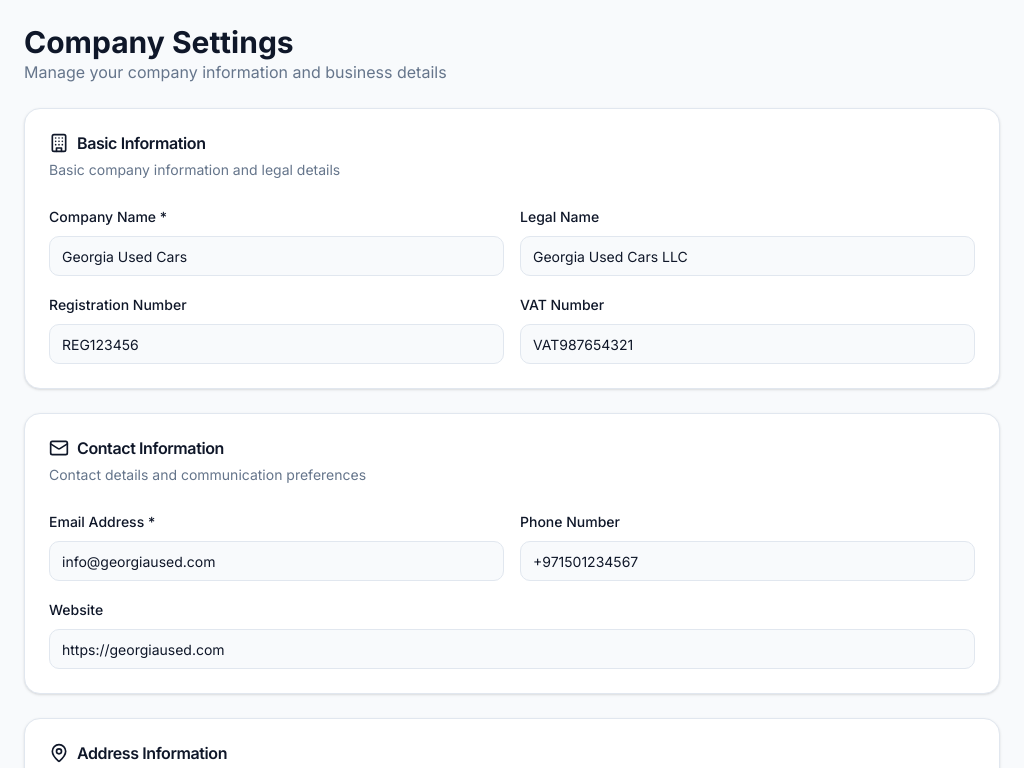
Test: Company Settings Page › should validate required fields
Clear the field showing "Georgia Used Cars" at (276, 256), box [49,236,504,276]
(page scrolled)
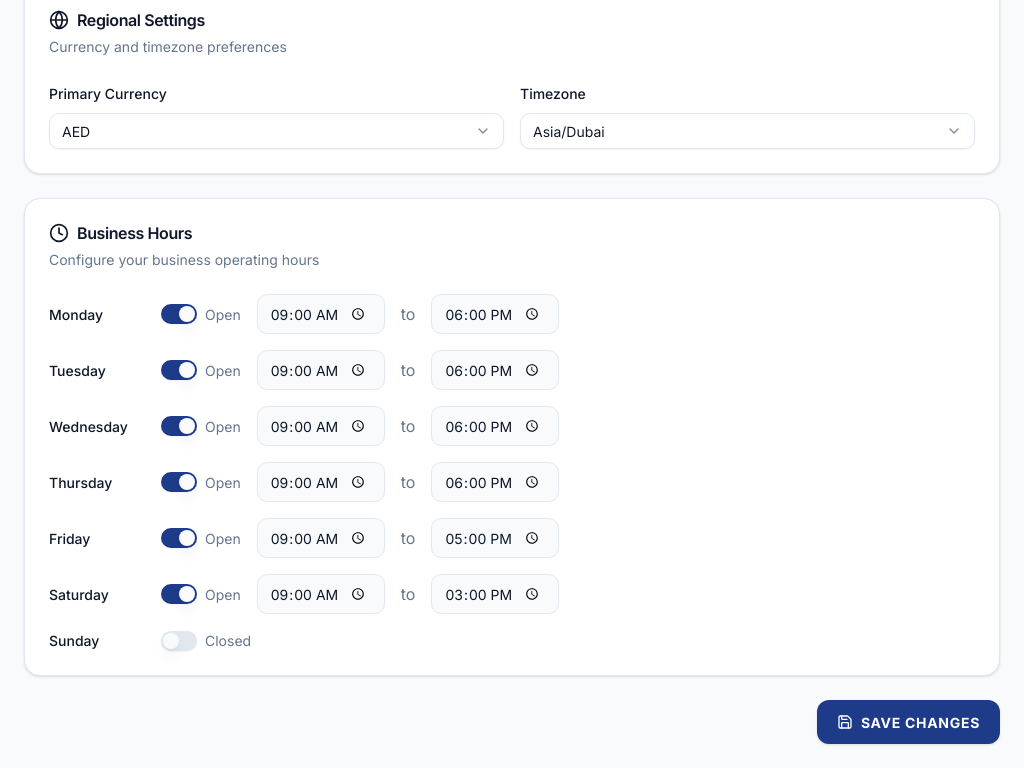
Click the button "Save Changes" at (908, 722), box [817,700,1000,744]
(page scrolled)
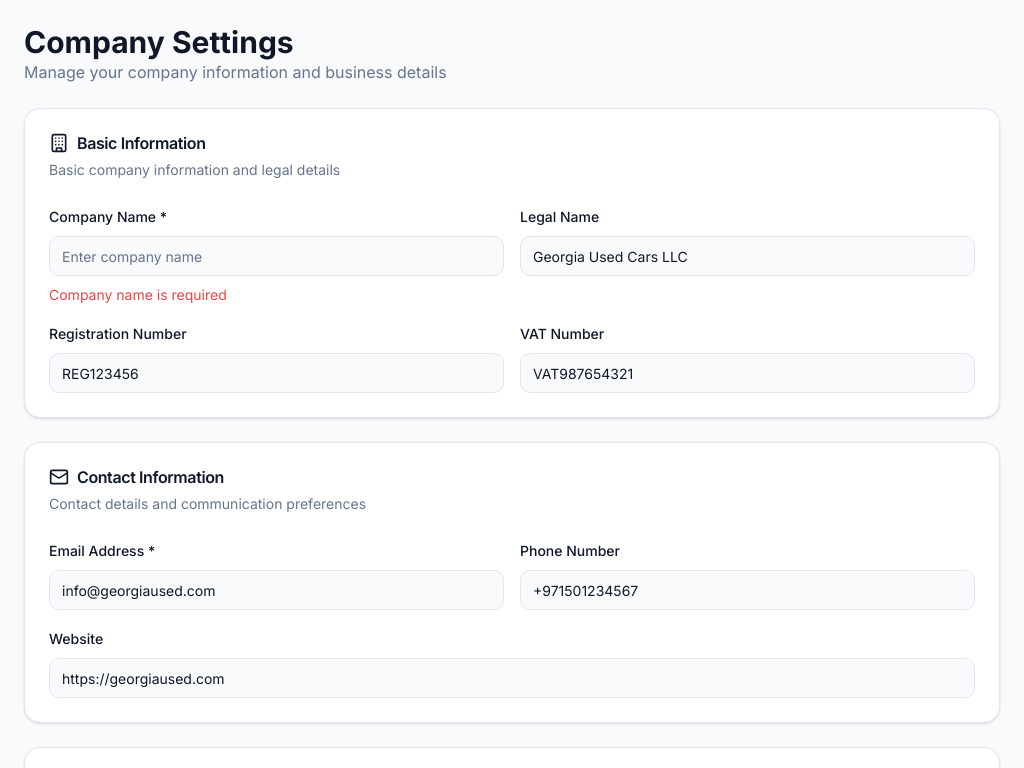
Expected: the text "Company name is required" is shown, [49,286,227,303]
